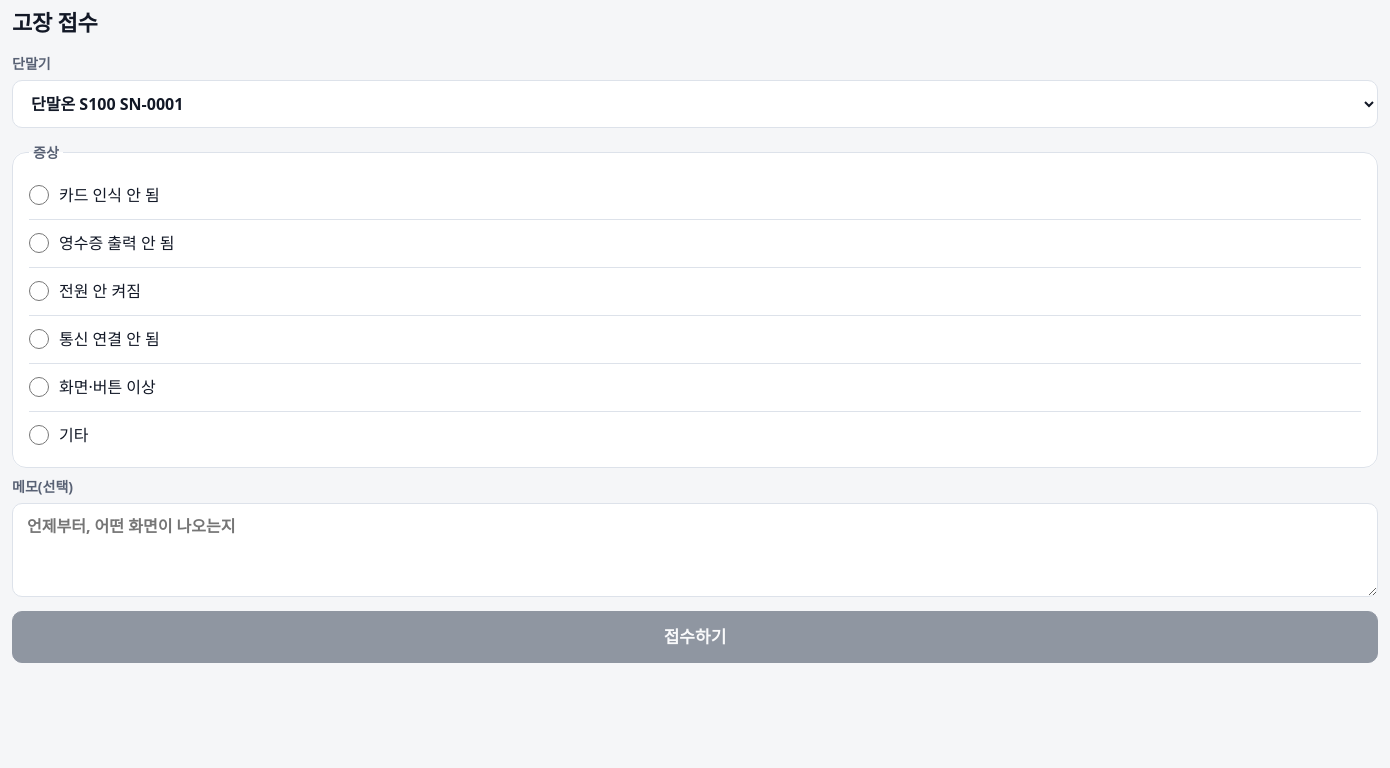
Test: 고장 접수 › 이미 열린 A/S가 있으면(409) 점주 안내
The image size is (1390, 768).
Click the radio button labelled "전원 안 켜짐".
click(39, 291)  # box [29,281,49,301]
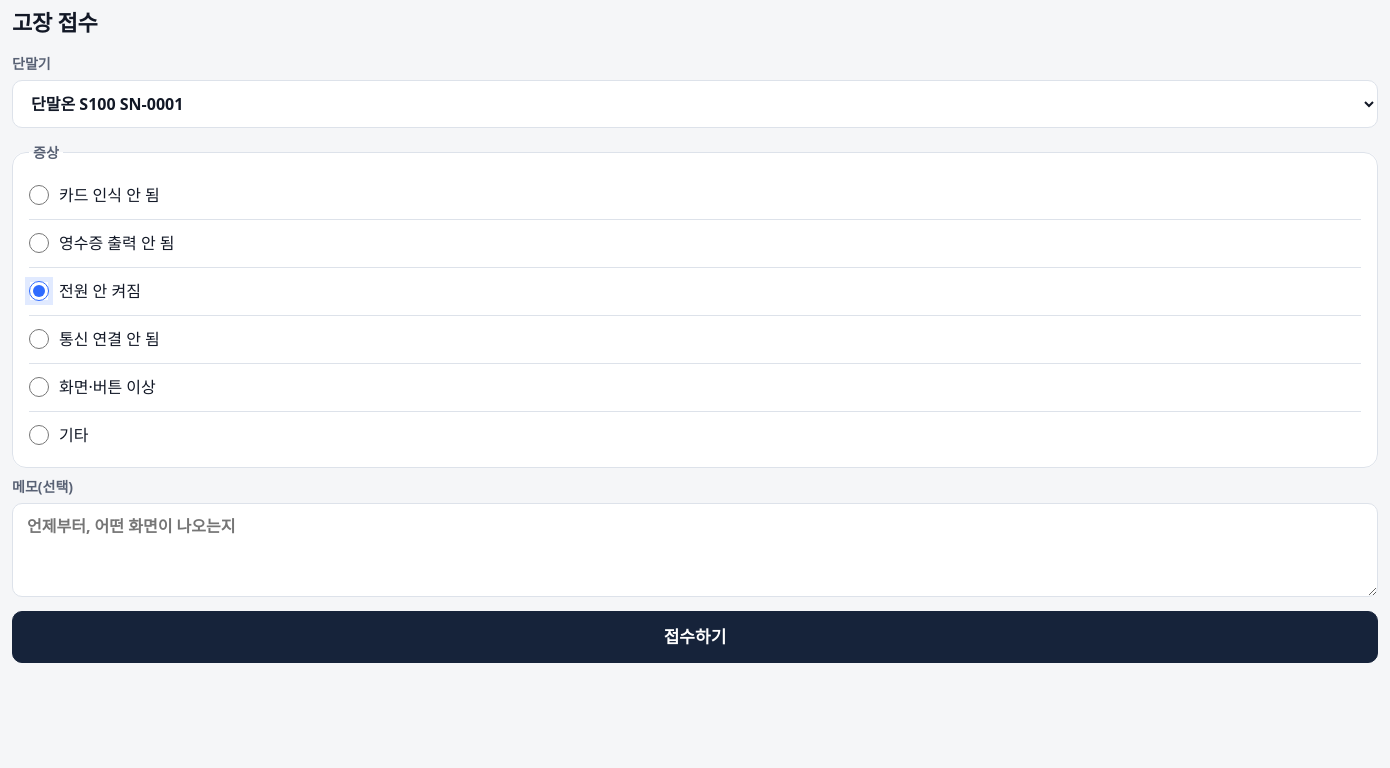
Click the button "접수하기".
click(695, 637)  # box [12,611,1378,663]
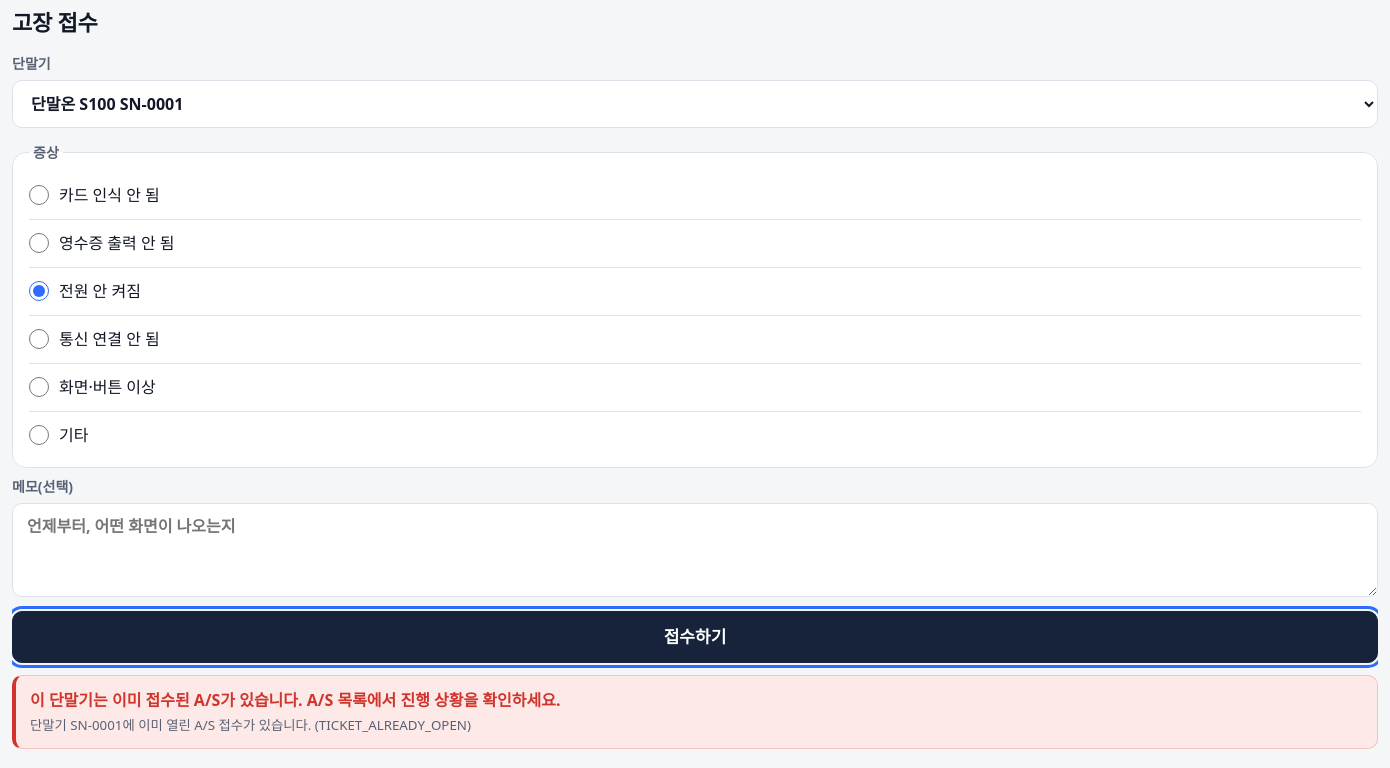
Now the message shows "이 단말기는 이미 접수된 A/S가 있습니다.", box [30,689,560,711]
